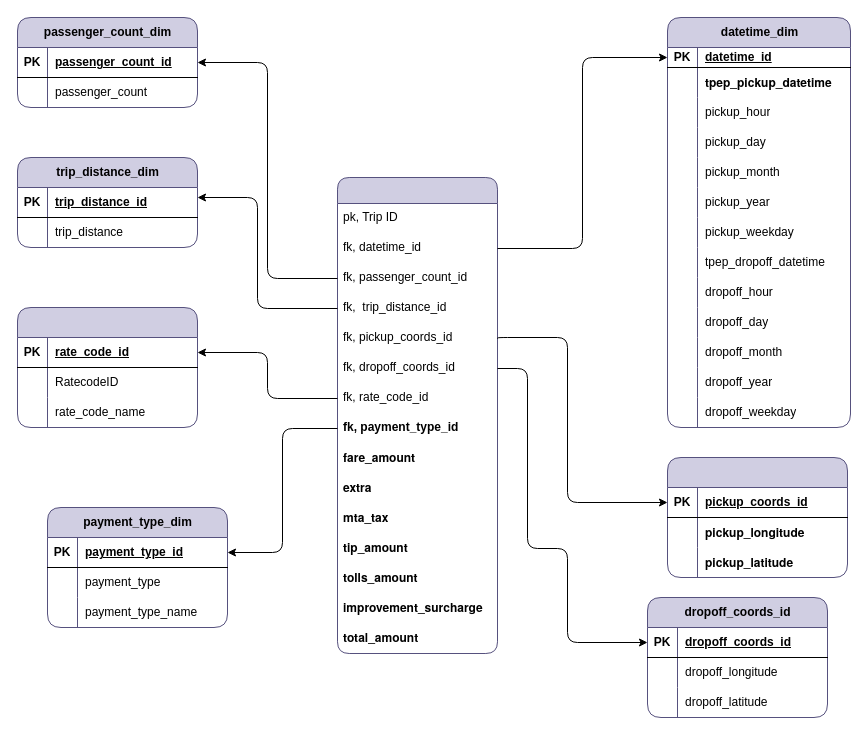
This 868x735 diagram has some shape labels left out. Each missing label, with the box of its shape:
fact_table: (336, 176, 498, 654)
pickup_coords_dim: (666, 456, 848, 578)
rate_code_dim: (16, 306, 198, 428)
